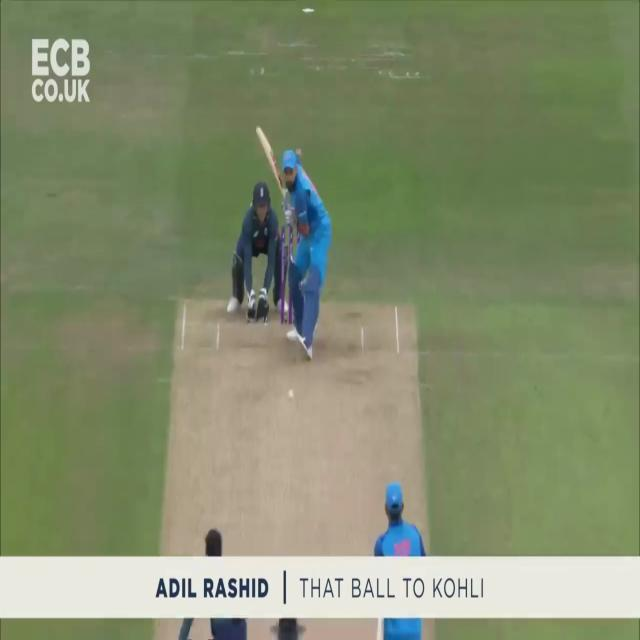cricketBall: (288, 390, 294, 400)
